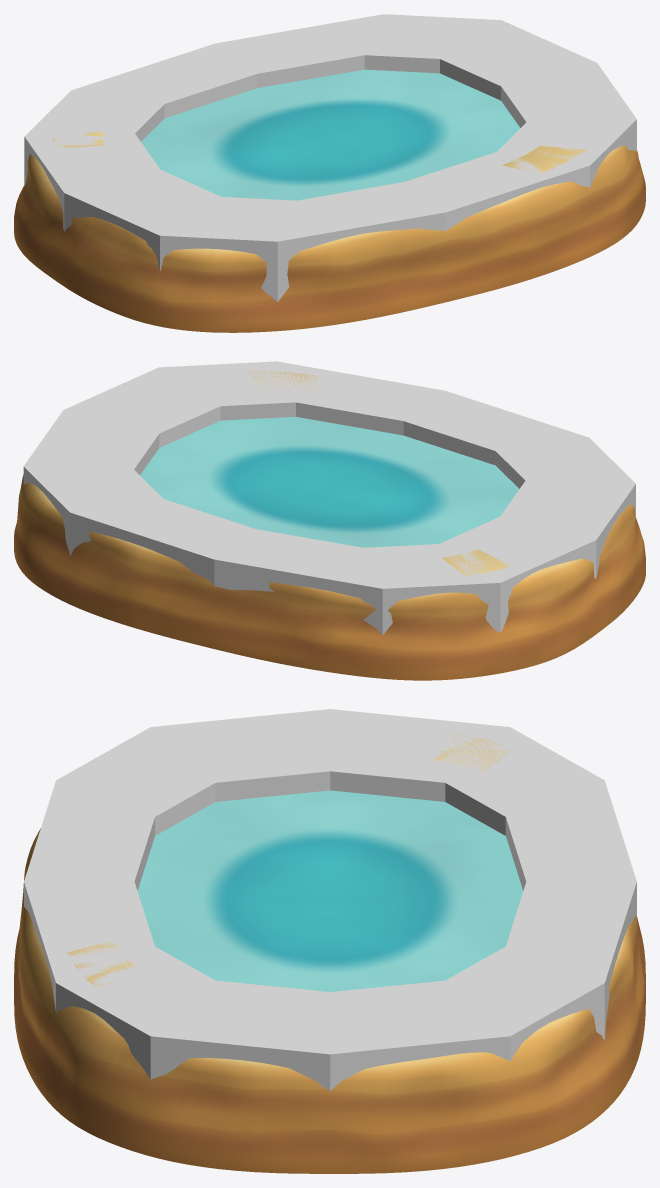
The model's file is SD_G10_Oasis_Basin.fbx.
3 views of the same model, one above another, from view 1: azimuth 30°, elevation 25°; view 2: azimuth 150°, elevation 25°; view 3: azimuth 270°, elevation 25° (orthographic). The views are drawn at different scales.
Parts seen in each view (by area): view 1: Rim, Water, COL_Rim_09, COL_Rim_03, COL_Rim_07, COL_Rim_04, COL_Rim_10, COL_Rim_08, COL_Rim_01, COL_Rim_06, COL_Rim_12, COL_Rim_02 (+2 smaller); view 2: Rim, Water, COL_Rim_04, COL_Rim_03, COL_Rim_10, COL_Rim_09, COL_Rim_06, COL_Rim_12, COL_Rim_05, COL_Rim_07, COL_Rim_01, COL_Rim_11 (+2 smaller); view 3: Rim, Water, COL_Rim_12, COL_Rim_01, COL_Rim_07, COL_Rim_06, COL_Rim_03, COL_Rim_10, COL_Rim_04, COL_Rim_09, COL_Rim_11, COL_Rim_02 (+2 smaller).
Part boxes in pixels (x1,y1,x2,y2): Rim: (14,132,645,332); Water: (141,69,520,200); COL_Rim_09: (277,182,445,301); COL_Rim_03: (215,14,383,88); COL_Rim_07: (64,169,221,270); COL_Rim_04: (71,43,256,117); COL_Rim_10: (405,152,590,230); COL_Rim_08: (160,197,296,301); COL_Rim_01: (440,20,596,100); COL_Rim_06: (24,133,159,231); COL_Rim_12: (501,63,636,127); COL_Rim_02: (364,14,501,73); Rim: (14,370,645,680); Water: (140,416,519,547); COL_Rim_04: (214,529,382,634); COL_Rim_03: (70,499,255,585); COL_Rim_10: (277,361,444,435); COL_Rim_09: (403,390,588,465); COL_Rim_06: (439,516,596,631); COL_Rim_12: (64,367,220,447); COL_Rim_05: (364,544,500,635); COL_Rim_07: (500,480,635,577); COL_Rim_01: (24,410,159,474); COL_Rim_11: (159,361,295,420); Rim: (14,733,645,1173); Water: (137,790,523,991); COL_Rim_12: (150,980,330,1090); COL_Rim_01: (330,980,510,1090); COL_Rim_07: (151,709,330,801); COL_Rim_06: (330,709,509,801); COL_Rim_03: (506,881,636,1040); COL_Rim_10: (24,881,154,1010); COL_Rim_04: (505,780,636,890); COL_Rim_09: (24,780,154,890); COL_Rim_11: (56,946,214,1079); COL_Rim_02: (445,946,604,1060).
Size of the model in its own units: 4 by 0.6 by 3.
